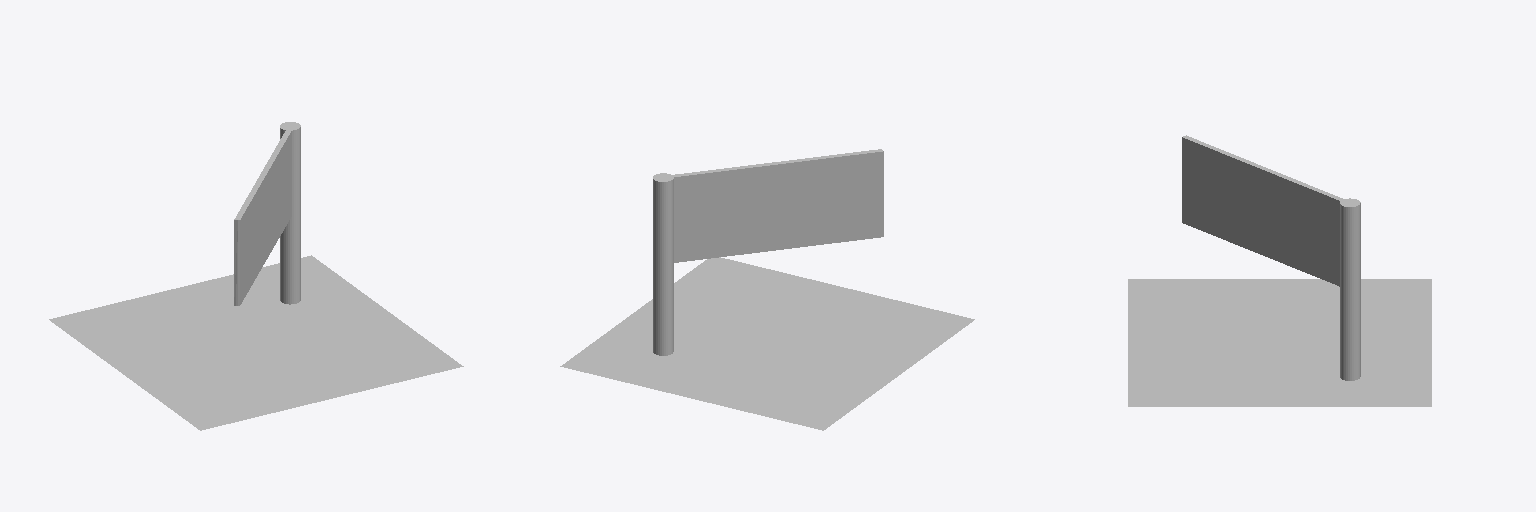
Rendered from flag.obj.
3 renders of one model, left to right at view 1: azimuth 30°, elevation 25°; view 2: azimuth 150°, elevation 25°; view 3: azimuth 270°, elevation 25°, orthographic.
Visible parts, largest first — view 1: Cylinder.003_Cylinder.004; view 2: Cylinder.003_Cylinder.004; view 3: Cylinder.003_Cylinder.004.
Boxes of the visible parts, box(x1,y1,x2,y2) form: Cylinder.003_Cylinder.004: box(49, 122, 463, 430); Cylinder.003_Cylinder.004: box(560, 149, 974, 430); Cylinder.003_Cylinder.004: box(1128, 135, 1431, 406).
Bounding box in the file's own units: 1.55 × 0.9775 × 1.55.